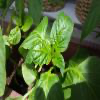Bell_pepper leaf: (50, 11, 74, 52), (21, 39, 52, 67), (21, 17, 49, 48), (52, 51, 65, 78)
